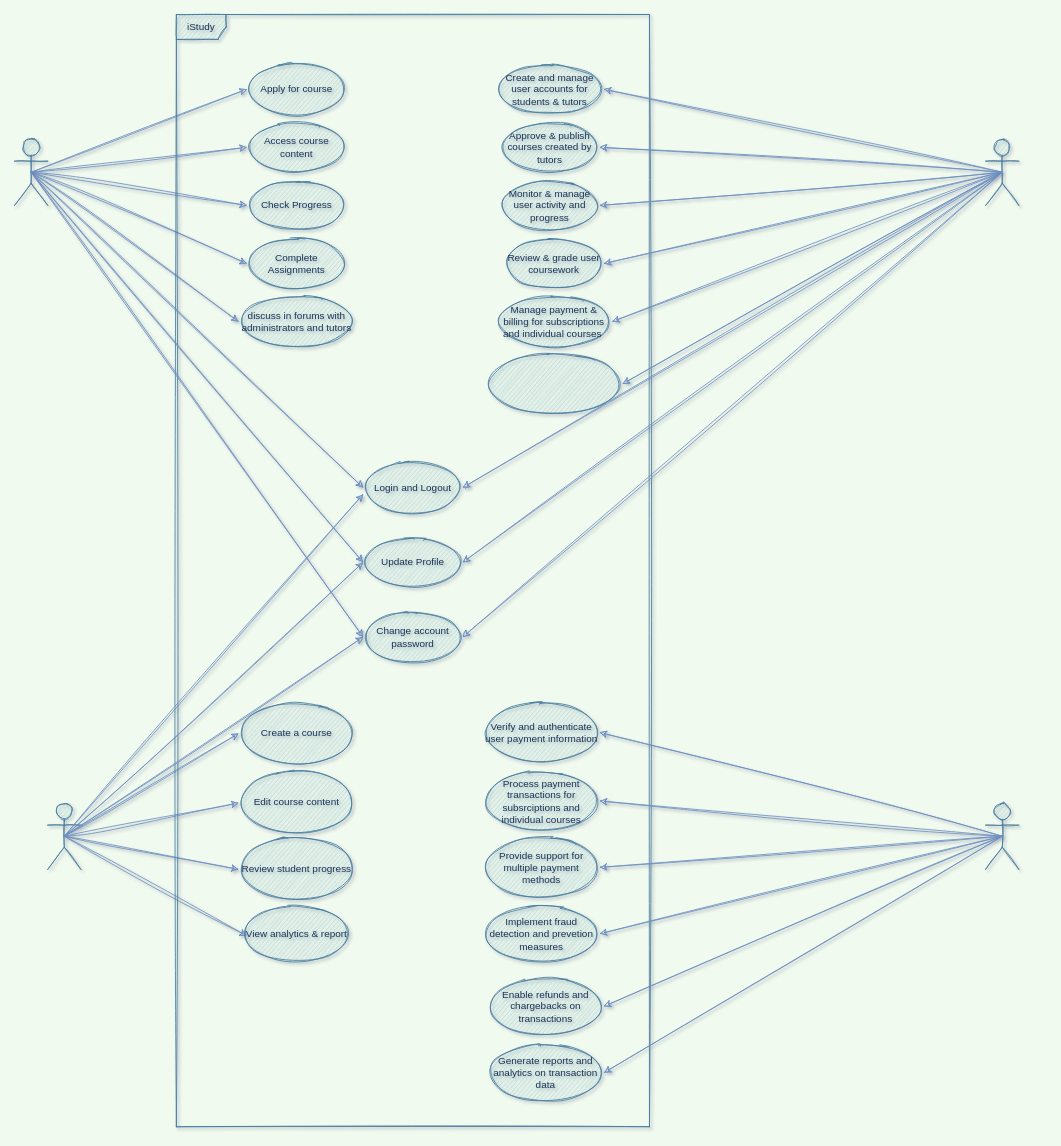
The diagram is 1061 pixels wide and 1146 high, and some of its shapes have lost their labels. The centre of each missing label's shape, as x and y in pixels:
Admin: the point at 1002,171
Generate reports & analytics on user engagement and perfomance: the point at 553,383
Payment gateway: the point at 1002,835
Student: the point at 31,171
Tutor: the point at 64,835
